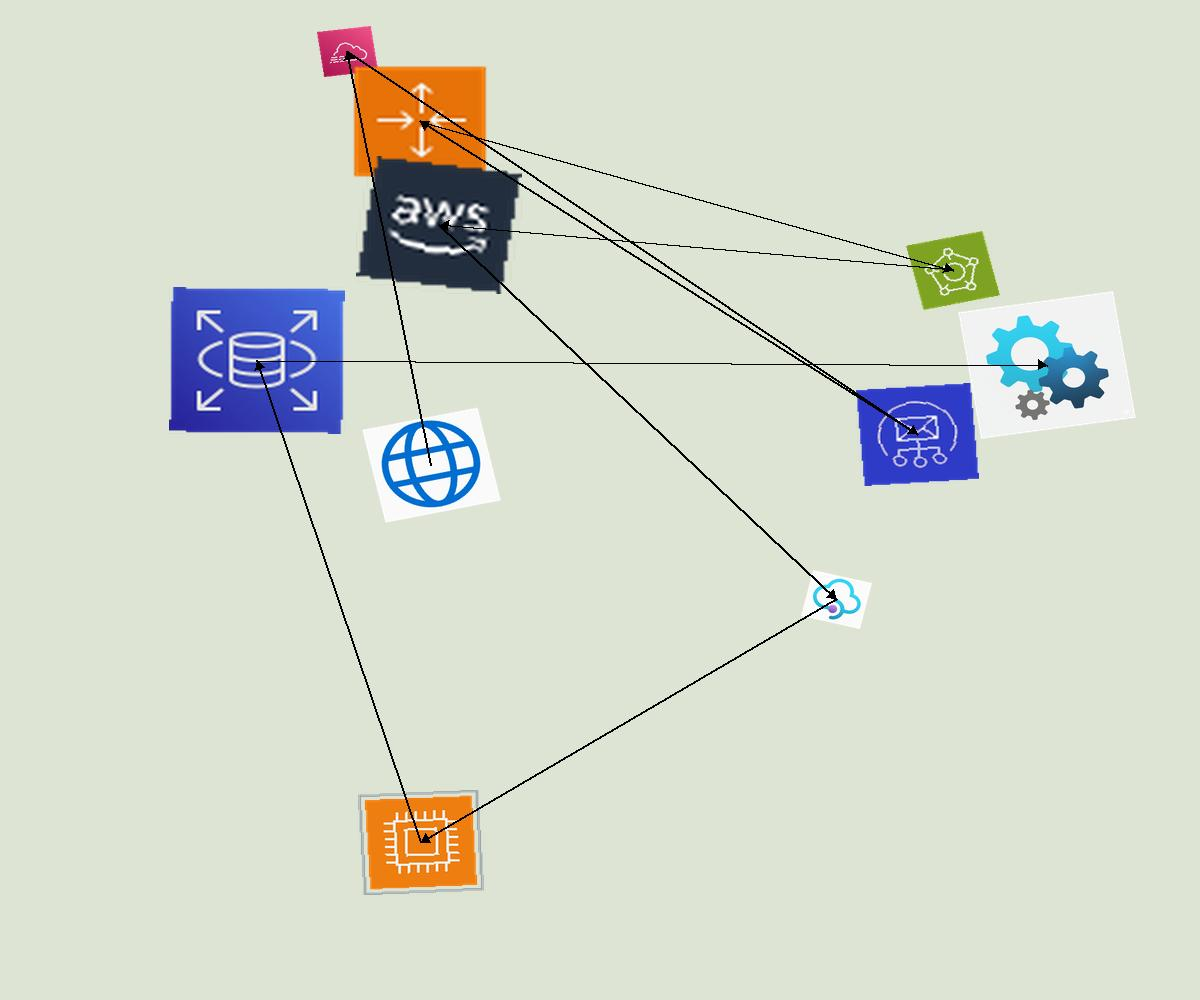AWS-Backup: (906, 231, 1000, 310)
AWS-Category_Compute: (357, 789, 485, 896)
AWS-Cloud-logo: (356, 156, 522, 294)
AWS-CloudTrail: (317, 26, 378, 77)
AWS-RDS: (169, 287, 345, 434)
AWS-Scaling-group: (351, 64, 489, 179)
AWS-Simple-Email-Service: (856, 383, 979, 486)
Azure_api: (958, 291, 1136, 439)
Azure_api_gateway: (801, 570, 872, 629)
Azure_http: (362, 407, 501, 523)
